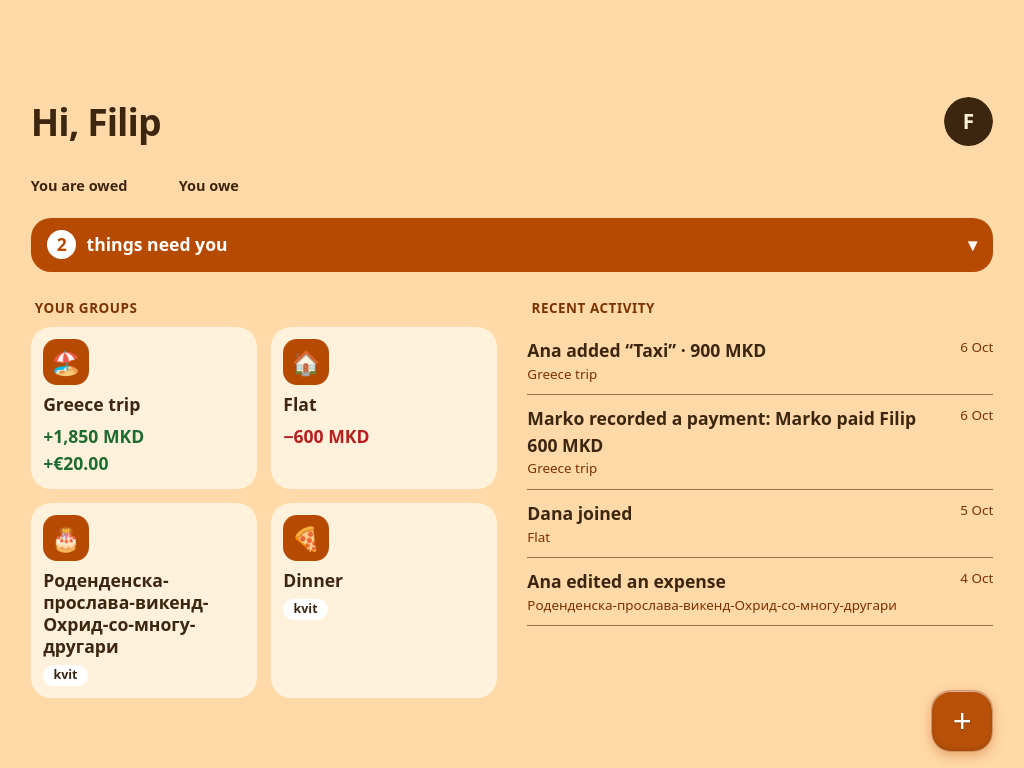
a closing card › Object › opens the reason sheet of the closing screens, with the reason field and Send
Expected: the heading "Your groups" is shown, [35,299,137,317]
Click the button "2 things need you ▾". click: (157, 244)
box: [31,218,993,272]
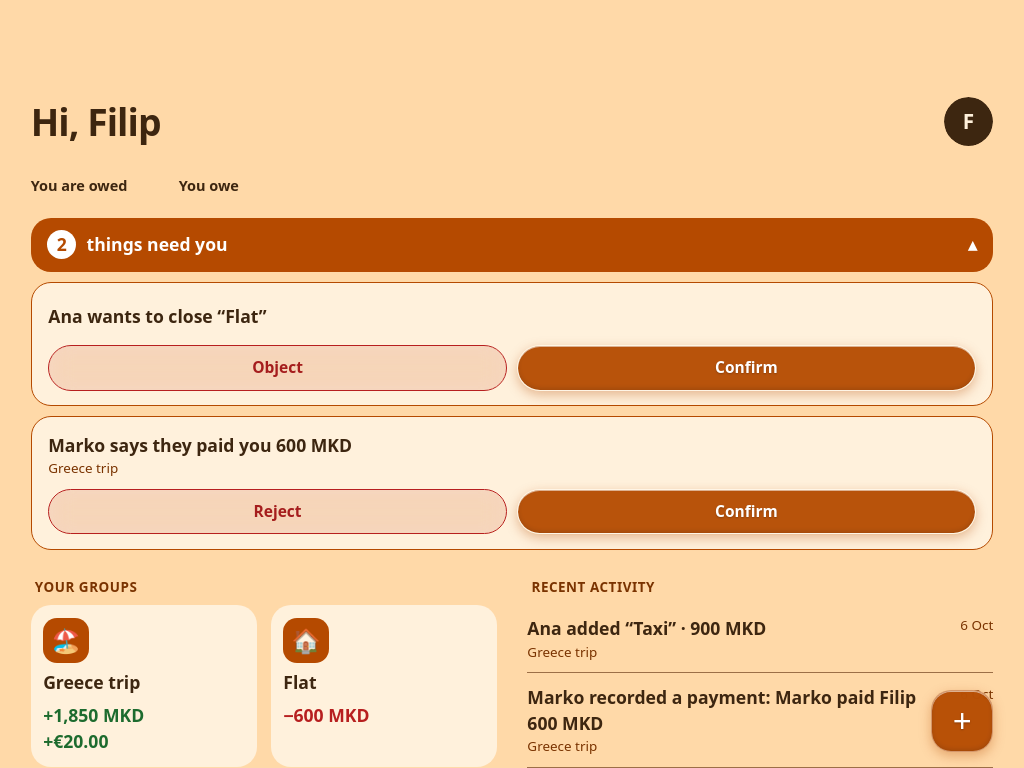
Click the button "Object". click: (278, 368)
box: [48,345,507,390]
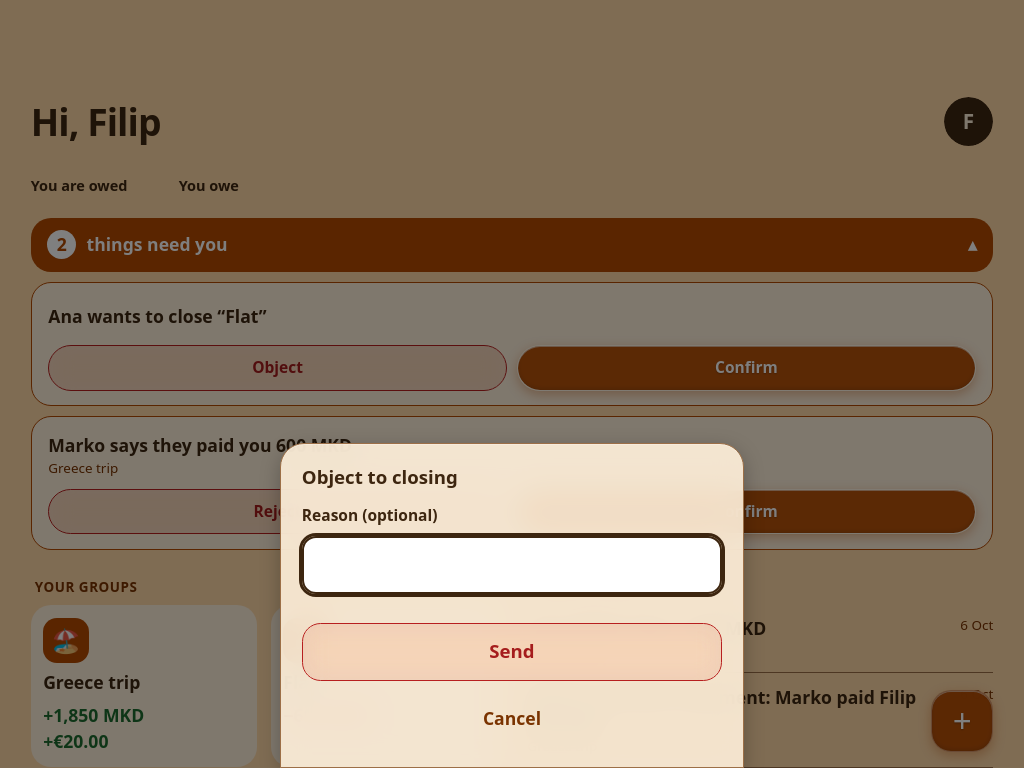
Now the field is shown, box [302,536,722,594]
Now the button "Send" is shown, box [302,623,722,681]
